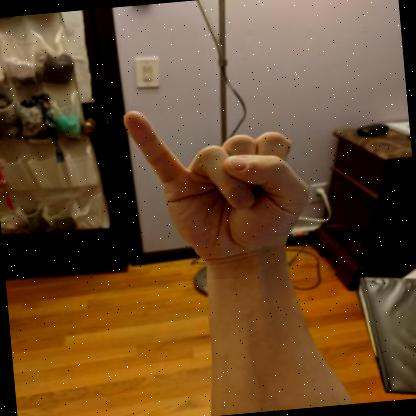I: (123, 111, 310, 267)
